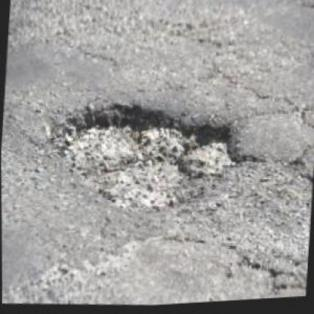Hueco: (44, 91, 249, 229)
